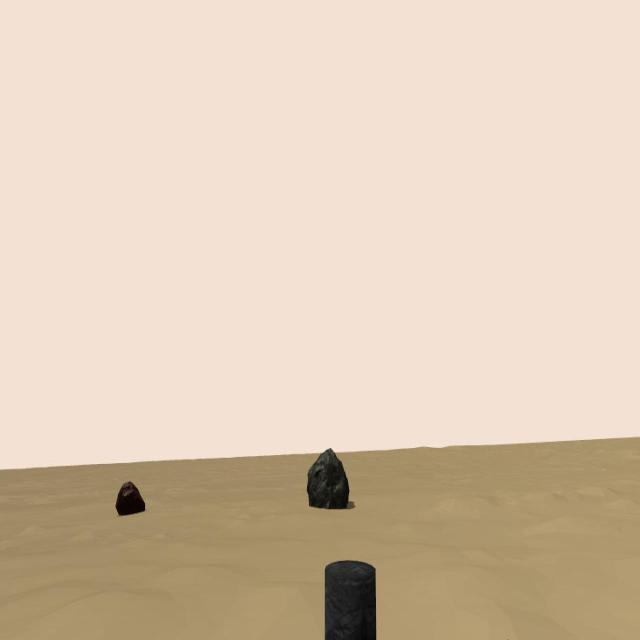rock: (307, 447, 349, 509), (116, 479, 146, 516)
